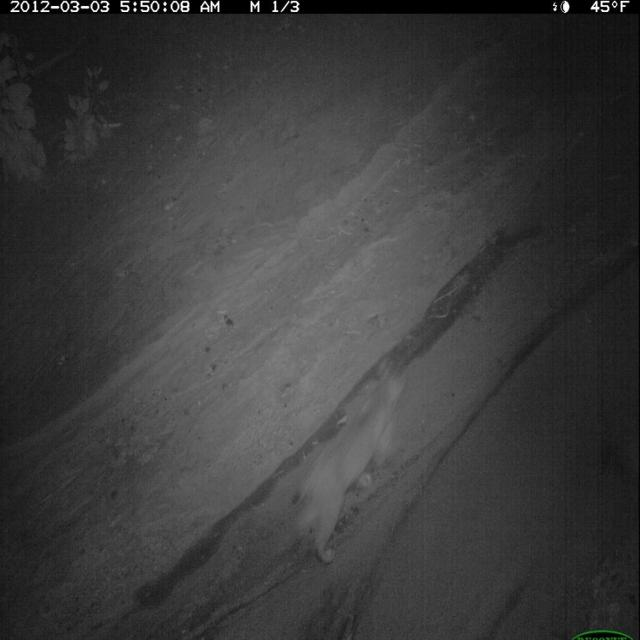bobcat: (287, 351, 409, 566)
